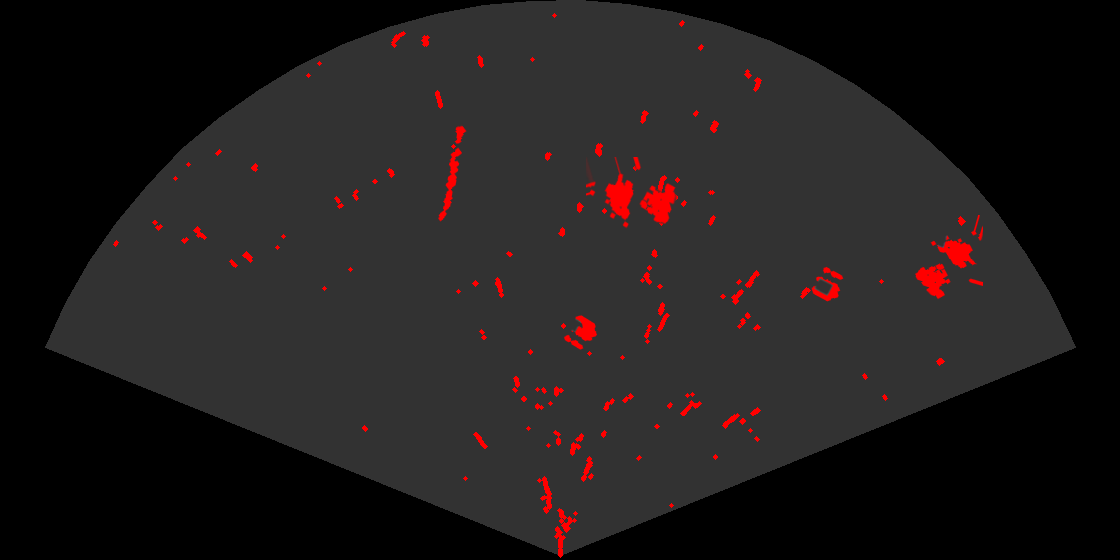ball: (562, 314, 599, 351), (810, 265, 845, 303)
cage: (586, 157, 677, 230), (914, 215, 983, 301)
chain: (437, 123, 468, 223)
